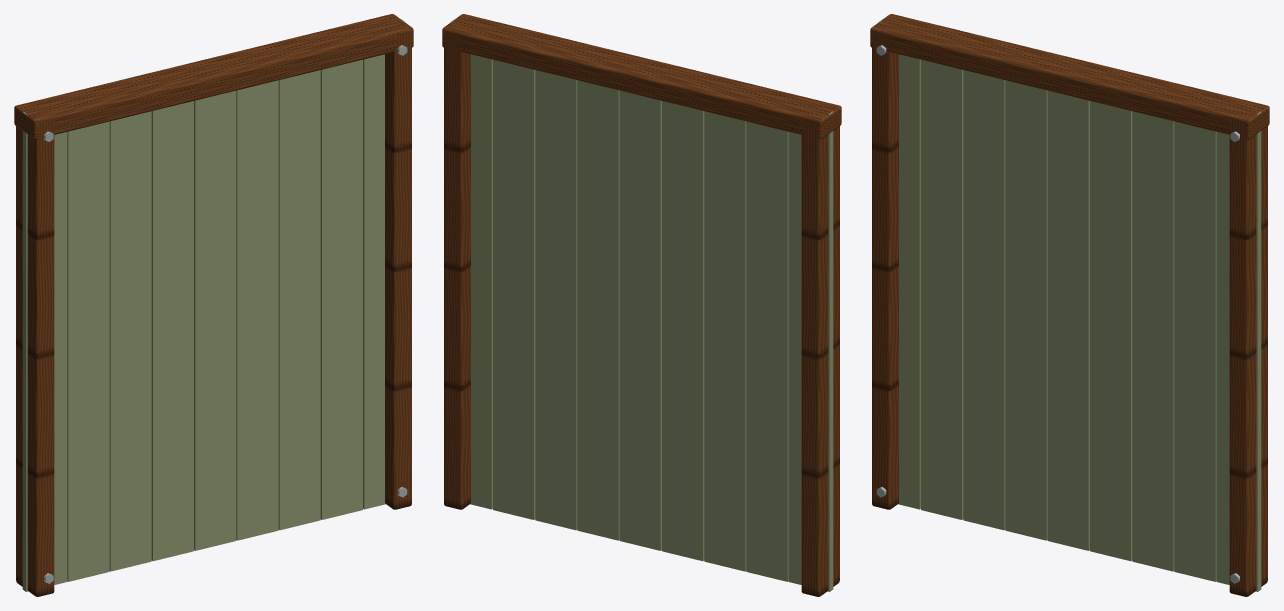
The model's file is modular-survival-base-builder-wall-curtain-partition-aef2e7a3__24170.glb.
3 views of the same model, side by side, from view 1: azimuth 30°, elevation 25°; view 2: azimuth 150°, elevation 25°; view 3: azimuth 330°, elevation 25° (orthographic).
Parts seen in each view (by area): view 1: wall-curtain-partition; view 2: wall-curtain-partition; view 3: wall-curtain-partition.
Boxes of the visible parts, x1,y1,x2,y2 form: wall-curtain-partition: [14, 14, 413, 596]; wall-curtain-partition: [442, 14, 841, 596]; wall-curtain-partition: [870, 14, 1269, 596].
Size of the model in its own units: 2 by 2.4 by 0.2115.
Materials: 3 (1 with a texture image).
